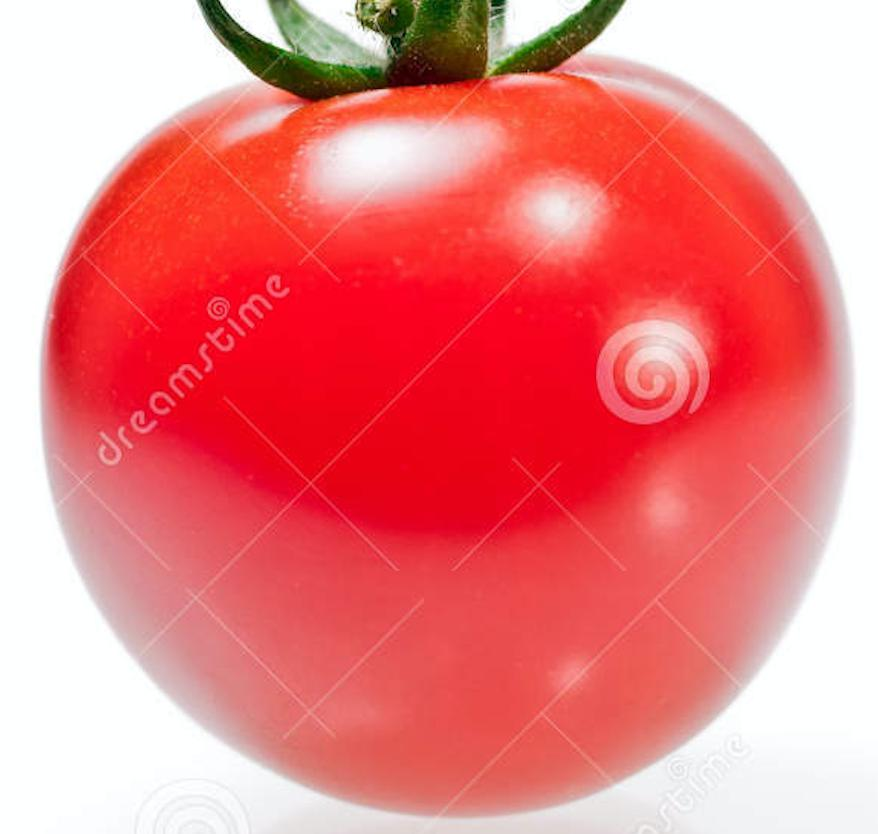tomato: (51, 62, 862, 816)
